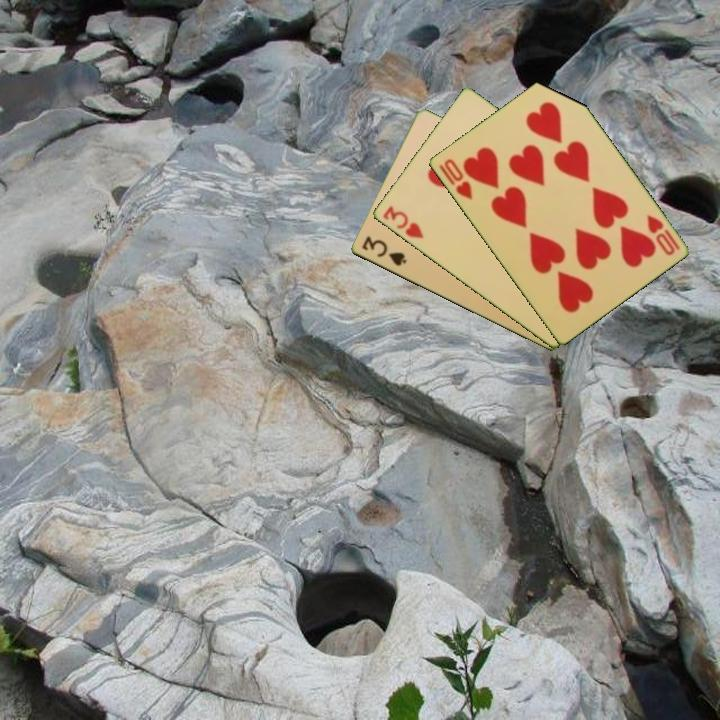10h: (435, 155, 475, 203), (643, 211, 682, 258)
3h: (379, 202, 427, 242)
3s: (358, 233, 409, 269)
